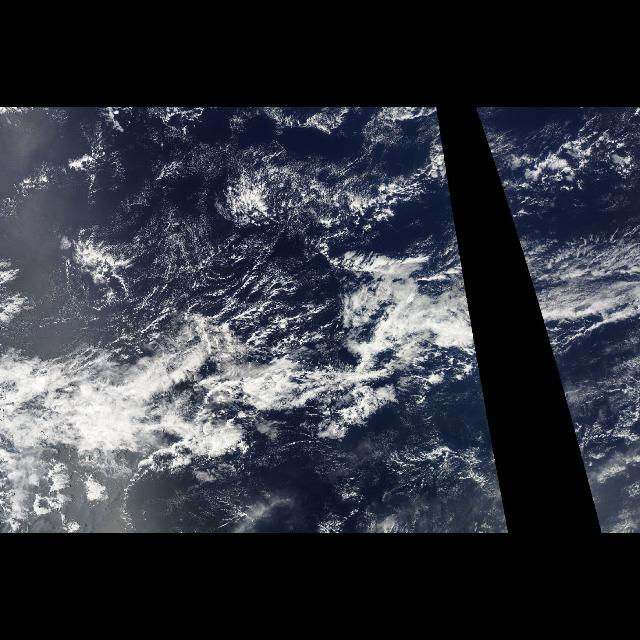Fish: (6, 234, 484, 446), (514, 234, 634, 384)
Gravel: (128, 220, 308, 352)
Sugar: (72, 109, 430, 344)
